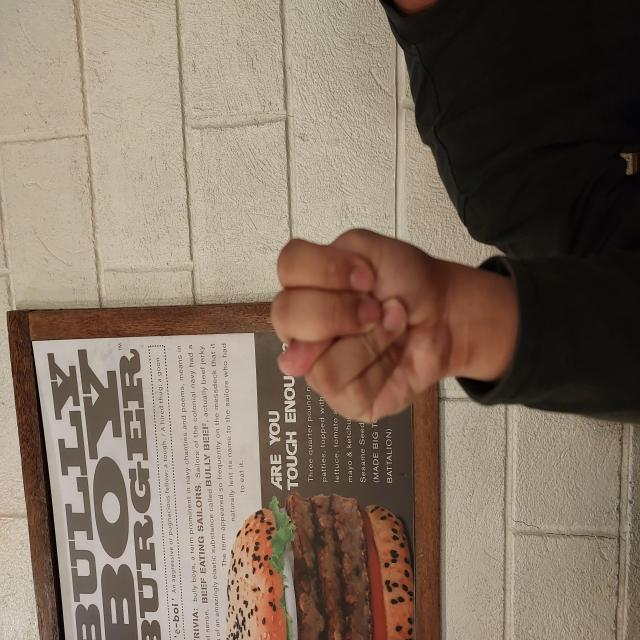N: (215, 268, 415, 452)
